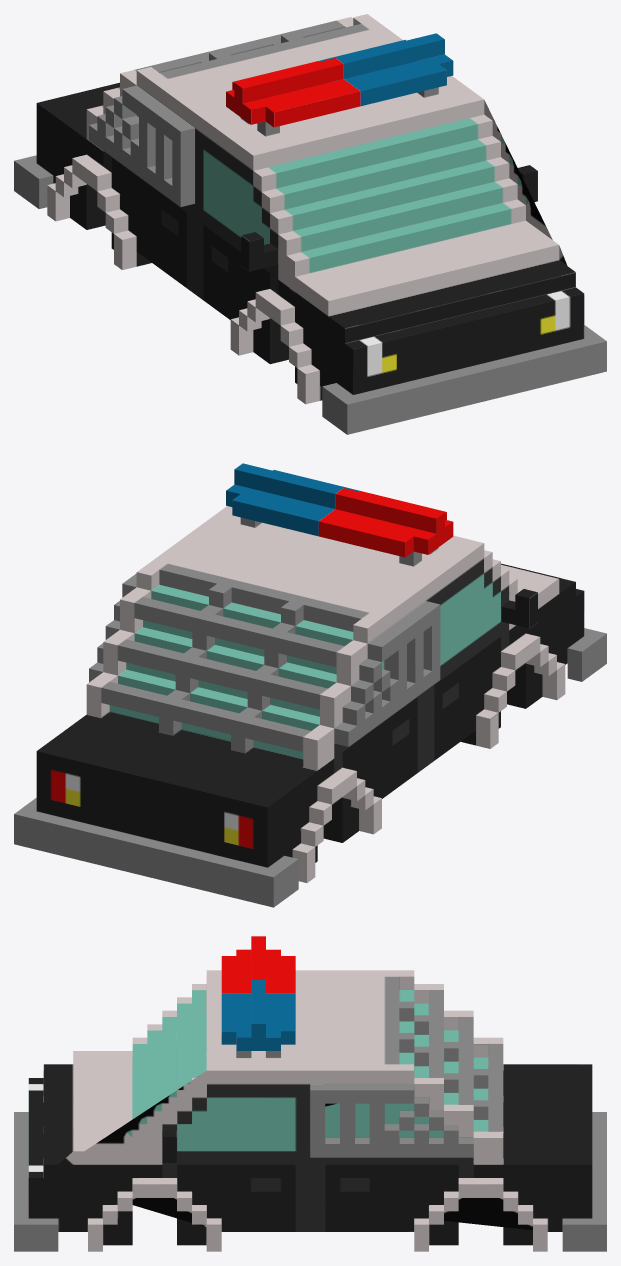
The model's file is Police_Car.obj.
3 views of the same model, one above another, from view 1: azimuth 30°, elevation 25°; view 2: azimuth 150°, elevation 25°; view 3: azimuth 270°, elevation 25° (orthographic). The views are drawn at different scales.
Visible parts, largest first — view 1: Police_Car_Police_Car.001; view 2: Police_Car_Police_Car.001; view 3: Police_Car_Police_Car.001.
Part boxes in pixels (left/top/right/bottom): Police_Car_Police_Car.001: left=14, top=14, right=606, bottom=434; Police_Car_Police_Car.001: left=14, top=463, right=606, bottom=907; Police_Car_Police_Car.001: left=14, top=936, right=606, bottom=1251.
Size of the model in its own units: 2 by 1.6 by 4.
